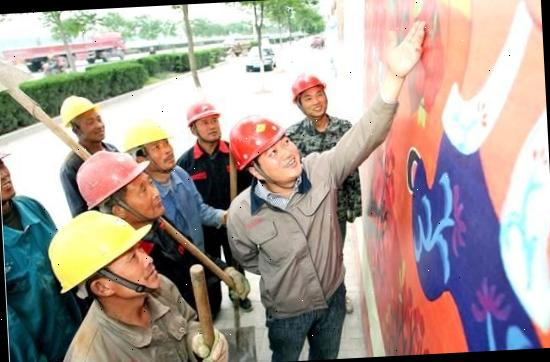helmet: (43, 207, 156, 295), (66, 148, 154, 209), (224, 114, 288, 170), (117, 118, 174, 153), (56, 93, 102, 123), (286, 70, 328, 98), (180, 101, 221, 124)
wear: (244, 178, 339, 318), (58, 295, 195, 362), (159, 175, 203, 241), (184, 144, 234, 202), (291, 114, 354, 154)
